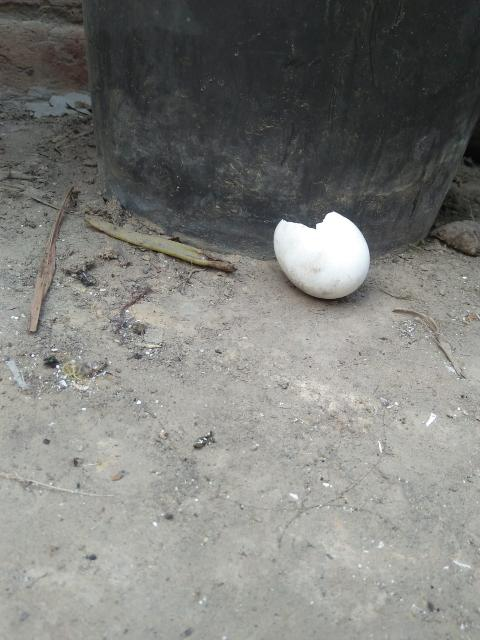Roto: (272, 210, 370, 300)
